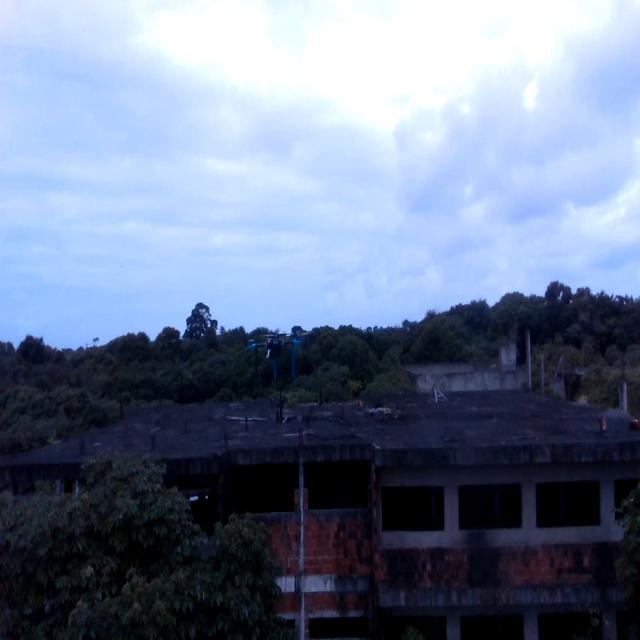-uav-: (235, 311, 305, 397)
